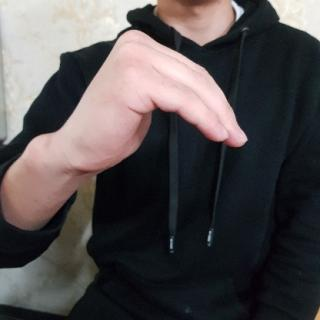HAA: (53, 22, 257, 195)
